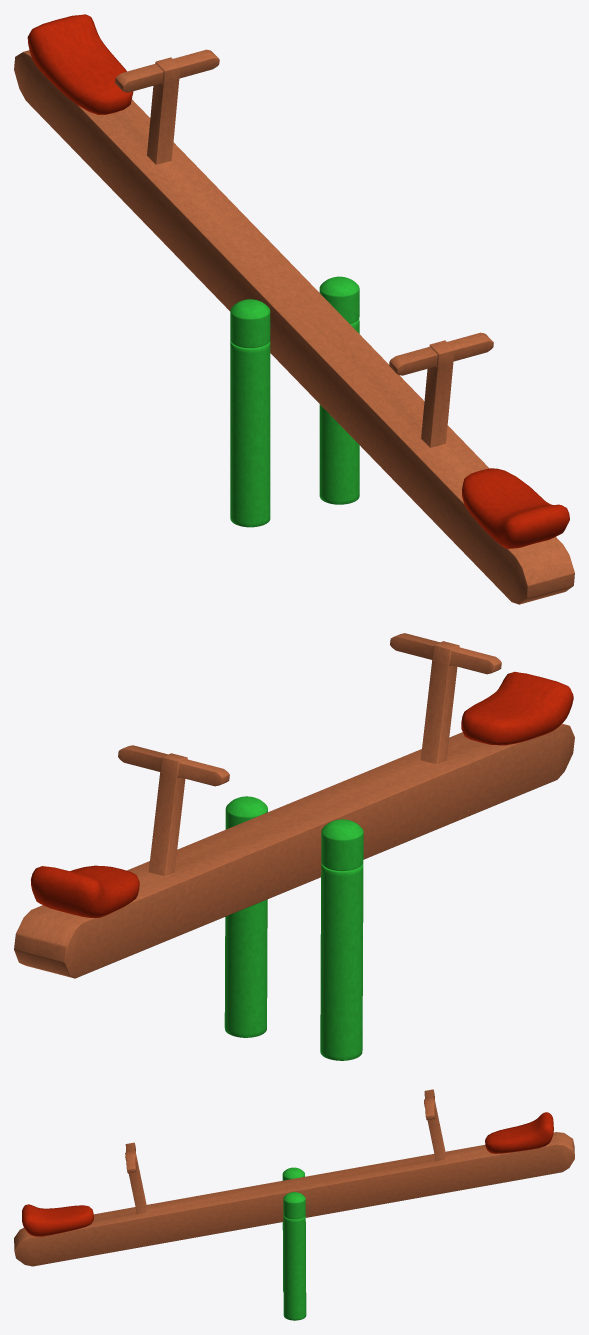
File: seesaw.glb
3 renders of one model, top to bottom at view 1: azimuth 30°, elevation 25°; view 2: azimuth 150°, elevation 25°; view 3: azimuth 270°, elevation 25°, orthographic. The views are drawn at different scales.
Visible parts, largest first — view 1: Whip; view 2: Whip; view 3: Whip.
Part boxes in pixels (bbox=[...]): Whip: bbox=[14, 14, 574, 604]; Whip: bbox=[14, 633, 574, 1060]; Whip: bbox=[14, 1089, 574, 1320].
Size of the model in its own units: 0.0416 by 0.1143 by 0.2873.
Materials: 1 (1 with a texture image).
